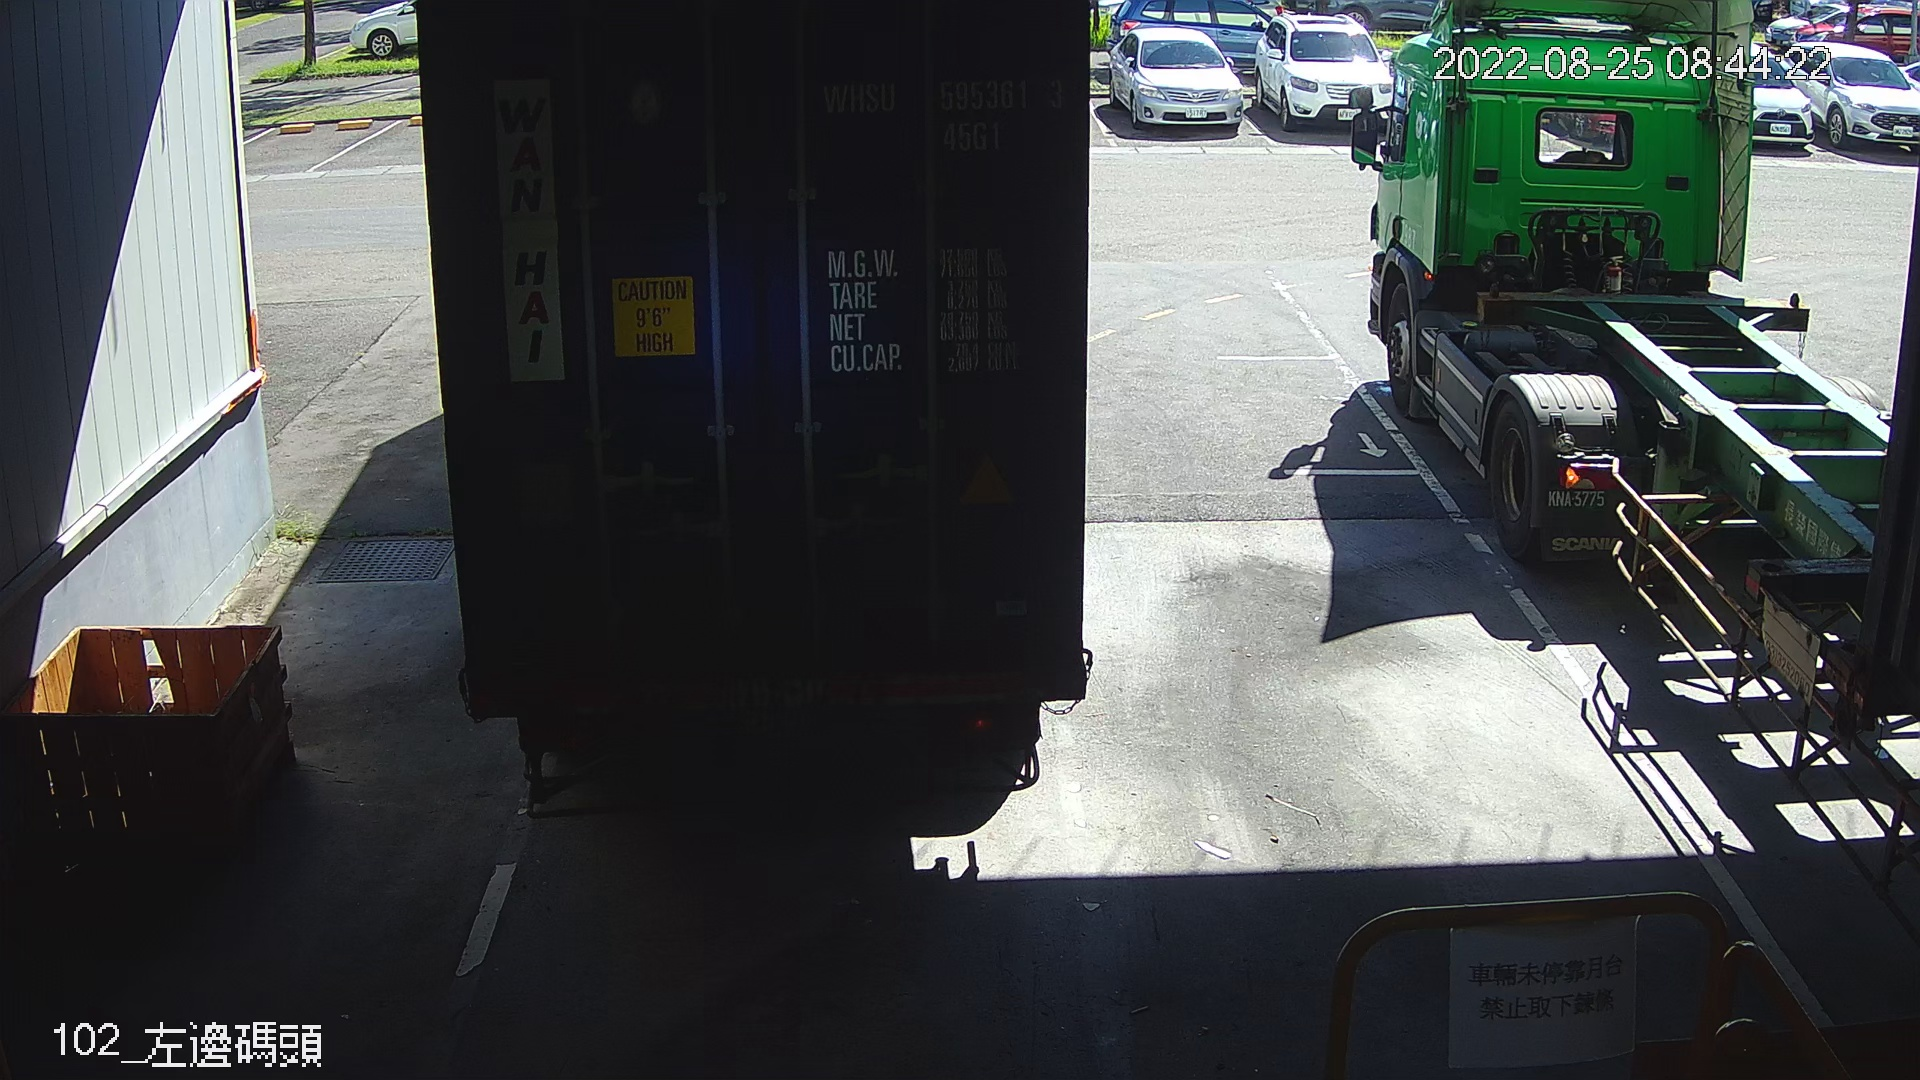container: (793, 94, 1087, 204)
